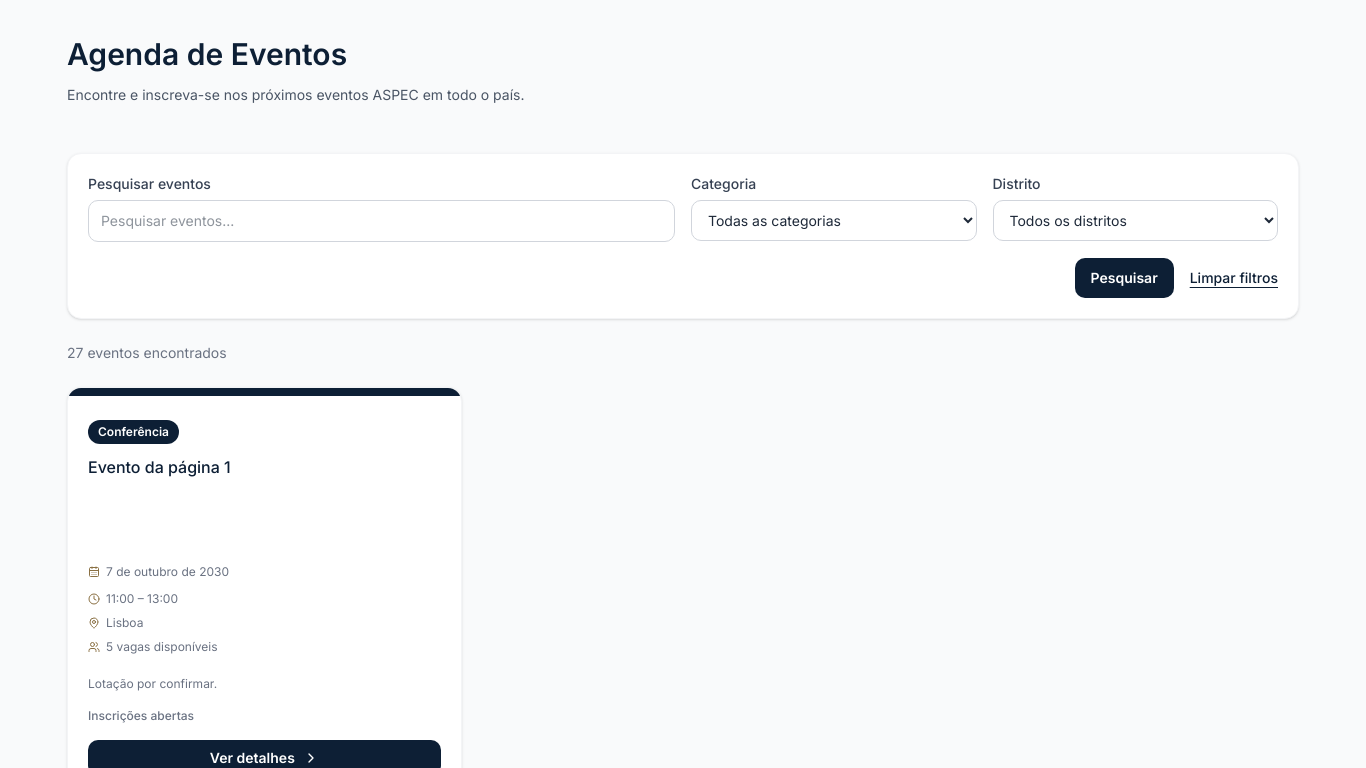
Test case: EventsPage › permite repetir por teclado o pedido que falhou, preservando os filtros e a página
Expected: the heading "Evento da página 1" is shown, [88,457,231,477]
Select "Conferência" in the dropdown labelled "Categoria" at (834, 220), box [691,200,976,241]
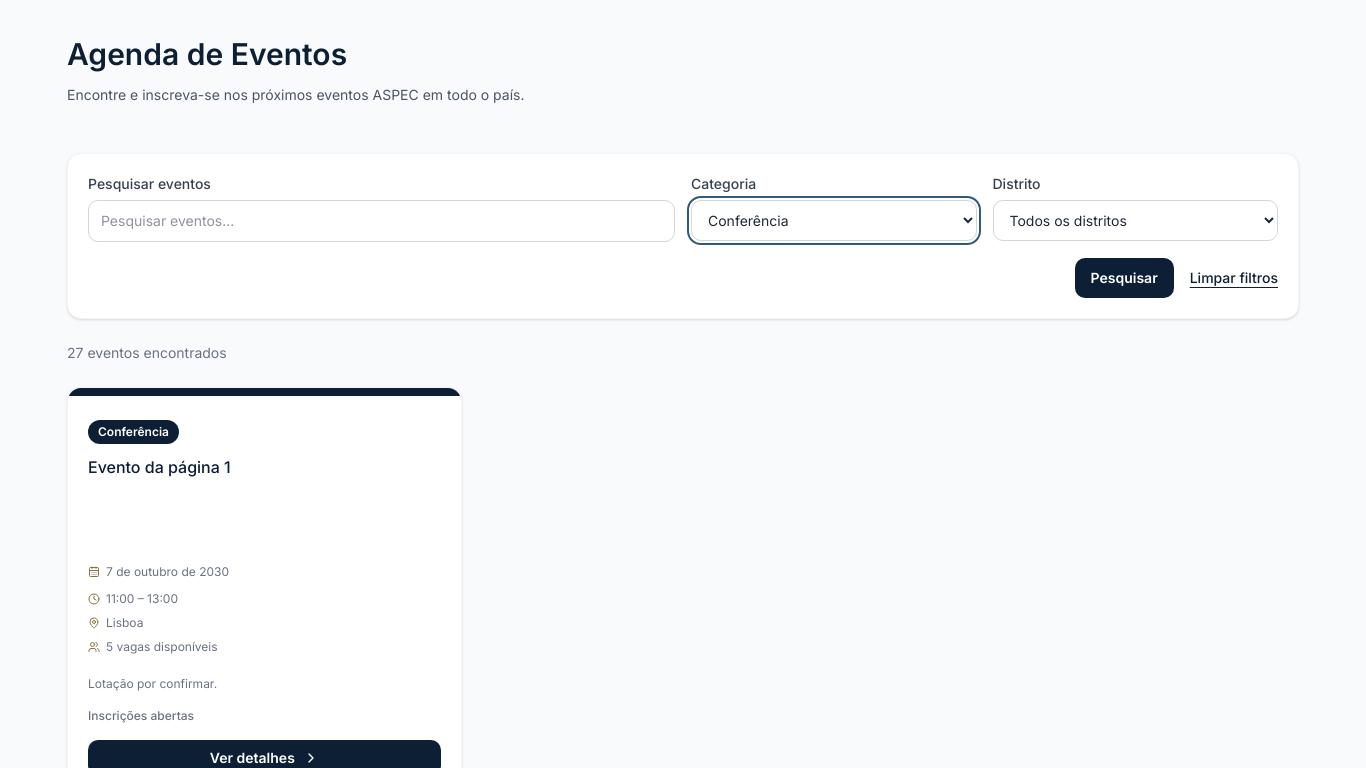
Expected: the heading "Evento da página 1" is shown, [88,457,231,477]
Select "Porto" in the dropdown labelled "Distrito" at (1135, 220), box [992,200,1278,241]
(page scrolled)
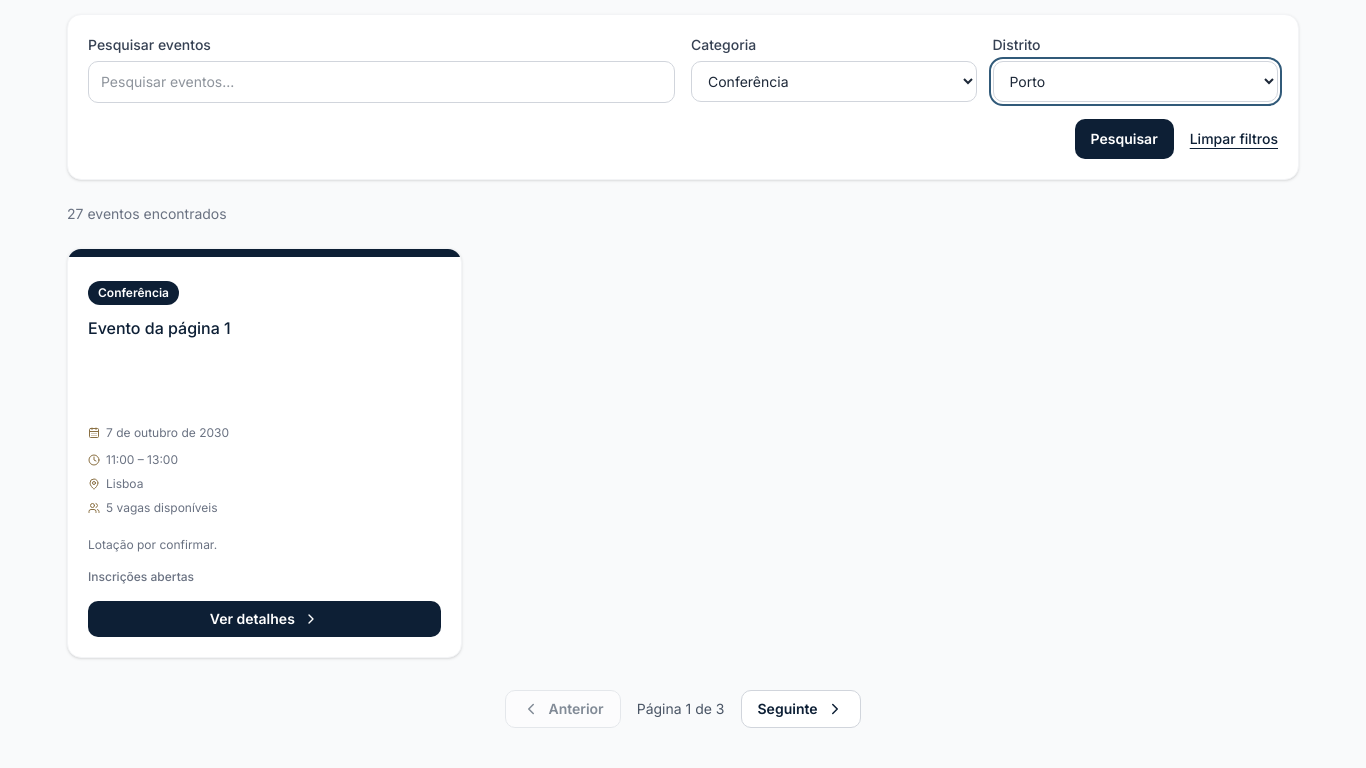
Expected: the heading "Evento da página 1" is shown, [88,318,231,338]
Click the button "Seguinte" at (800, 709), box [740,690,860,728]
(page scrolled)
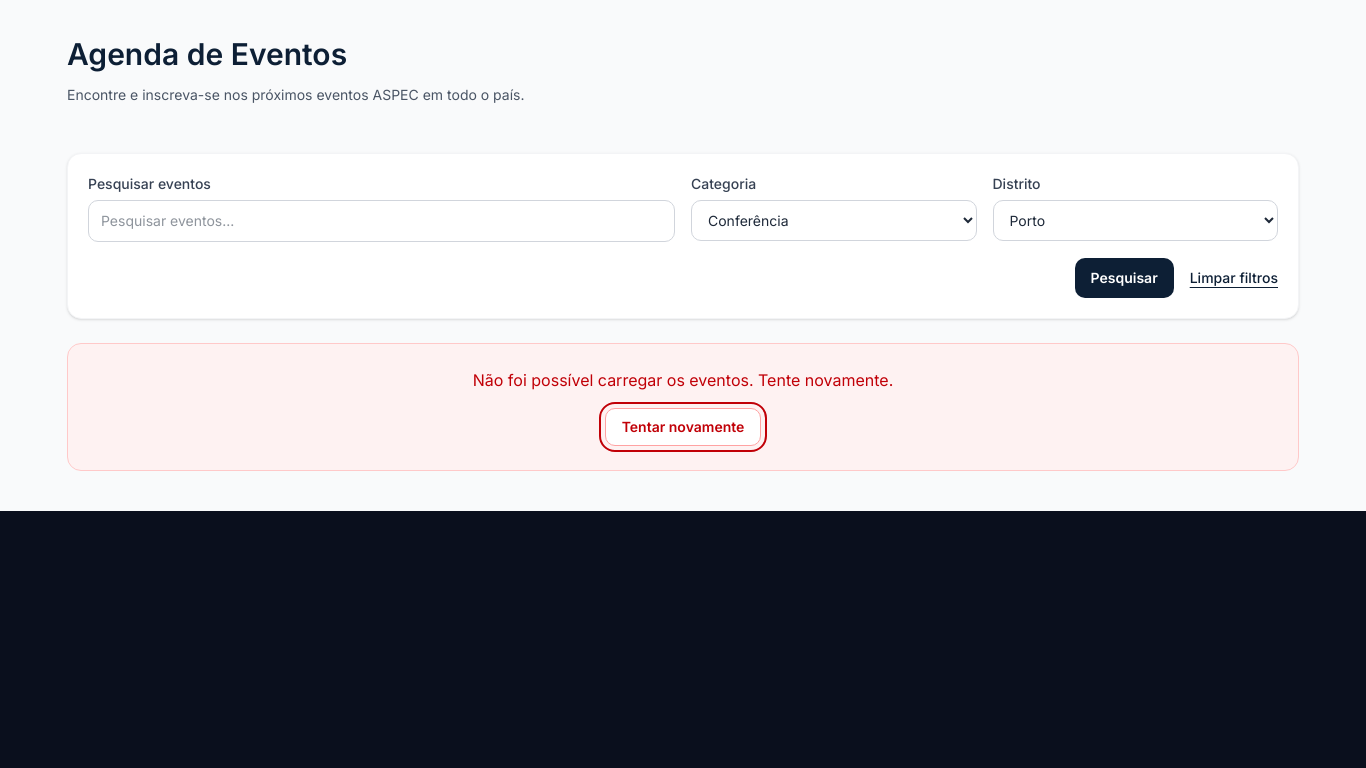
Expected: the message "Não foi possível carregar os eventos. Tente novamente." is shown, [473,370,893,390]
Press Enter
(page scrolled)
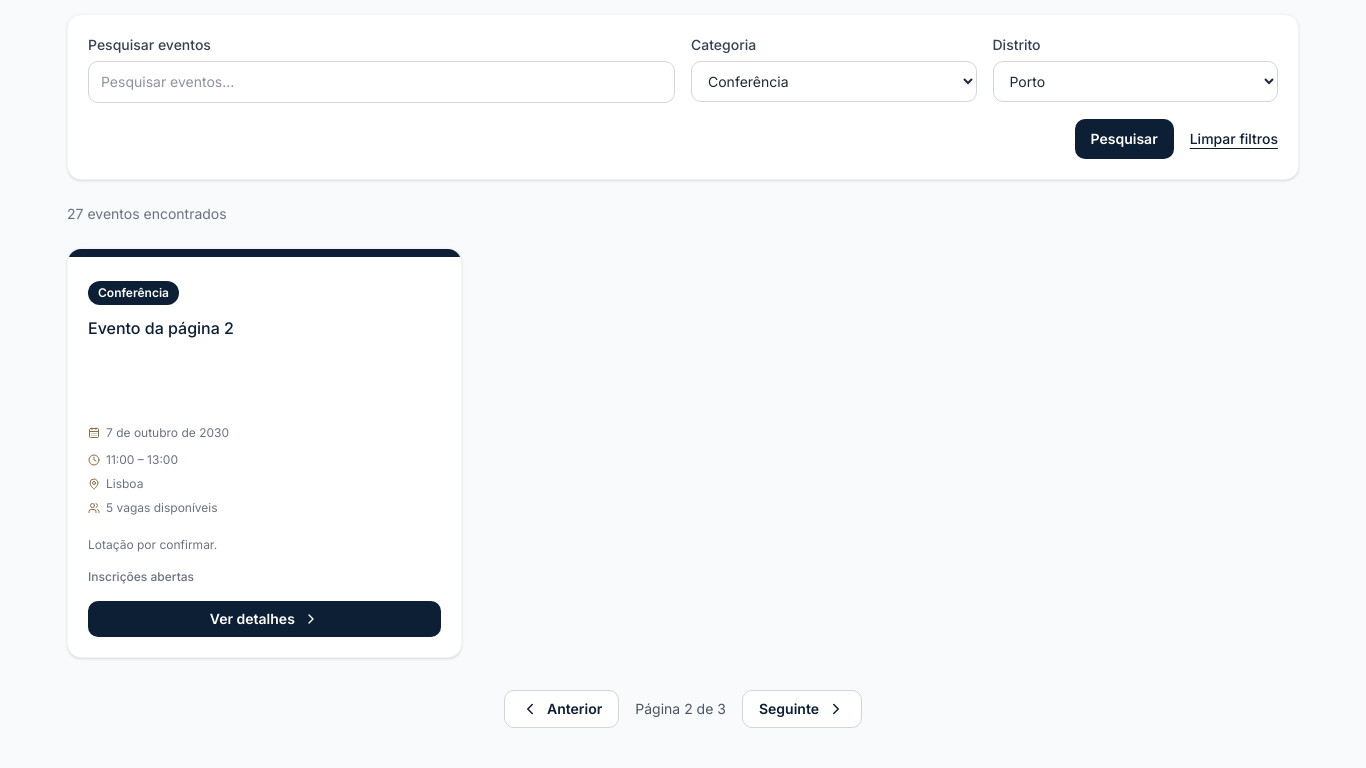
Expected: the message "Não foi possível carregar os eventos. Tente novamente." is gone
